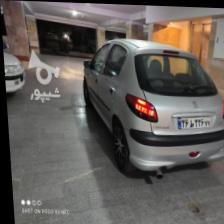plate: (173, 112, 210, 129)
